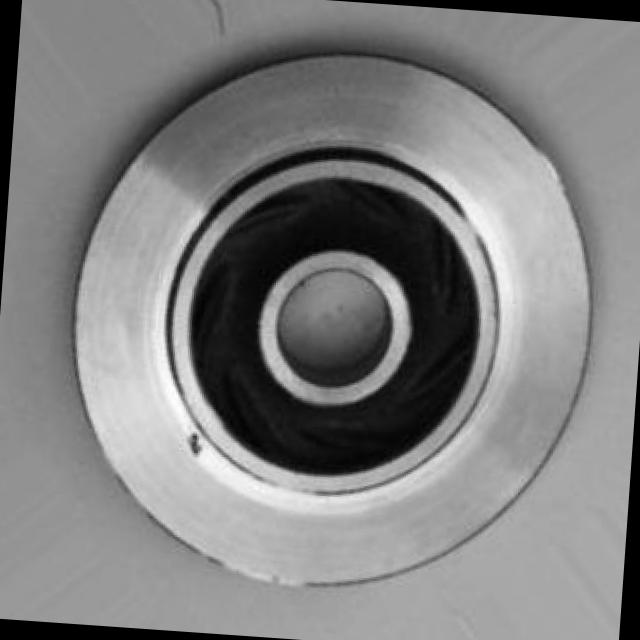Defect: (182, 431, 210, 462)
